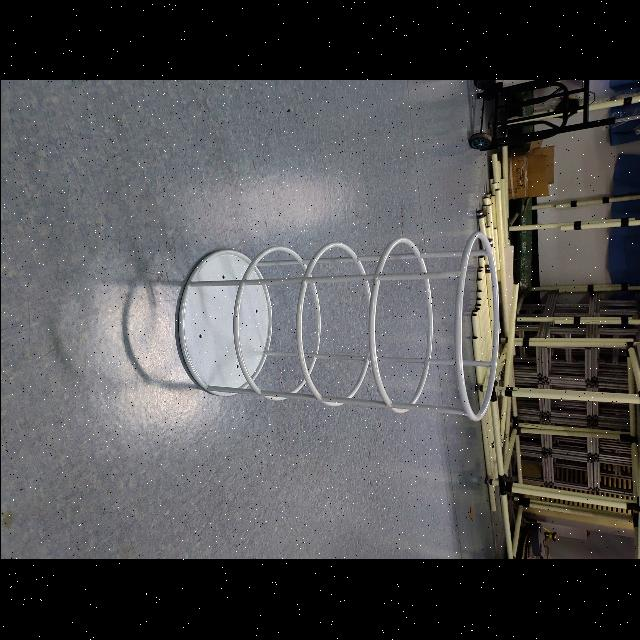S: (172, 228, 502, 426)
